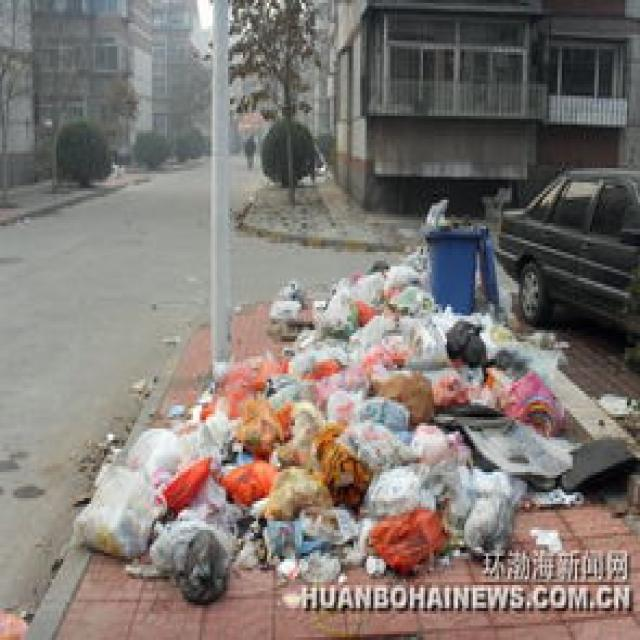garbage: (74, 246, 638, 600)
overflow: (421, 194, 473, 310)
